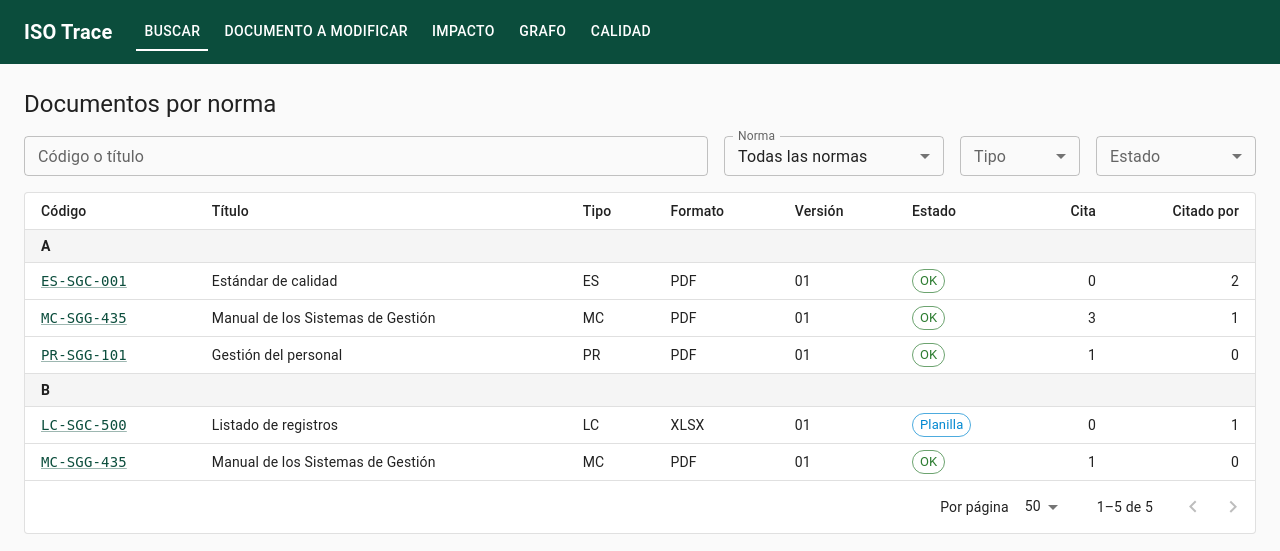
Test: SearchPage › busca por texto y lo refleja en la URL
In the field named "Buscar por código o título": (366, 156) [24, 136, 708, 176], type "personal"
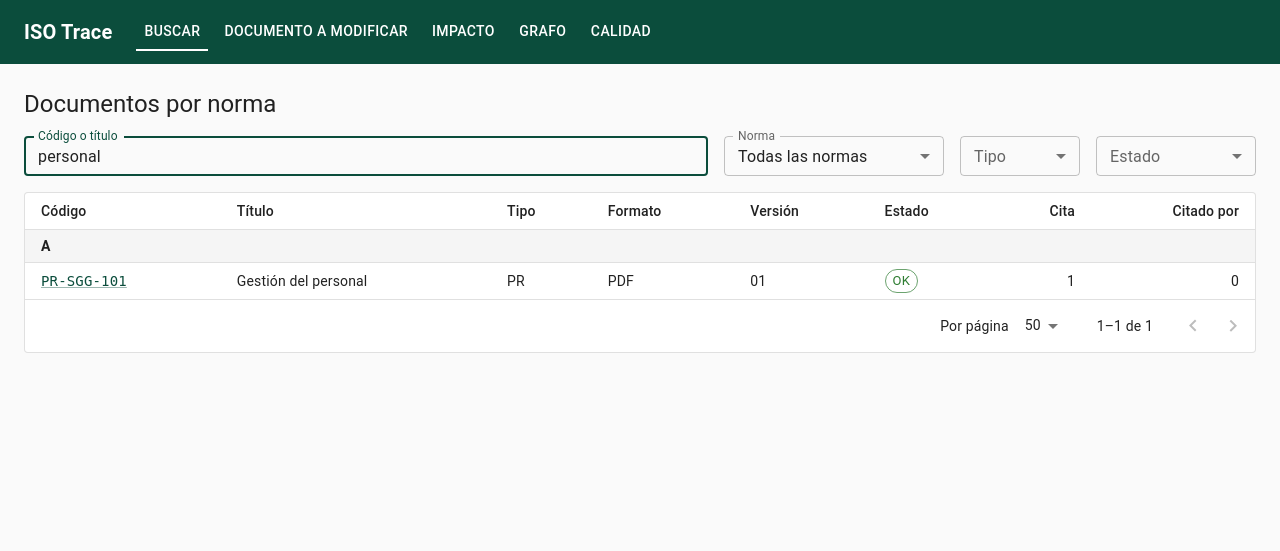
Expected: the link "PR-SGG-101" is shown, [41, 273, 127, 289]
Now the number of rows is 3, box [25, 193, 1255, 230]; [25, 230, 1255, 262]; [25, 262, 1255, 300]
